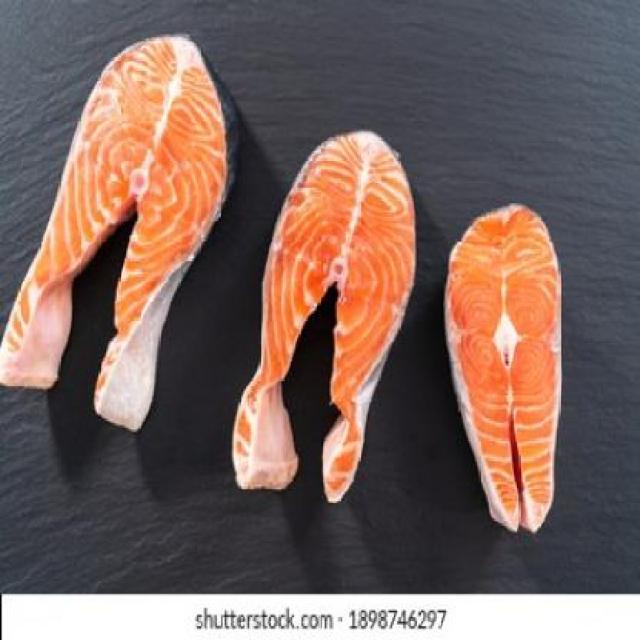salmon: (2, 14, 235, 428), (237, 121, 418, 512), (435, 174, 570, 533)
